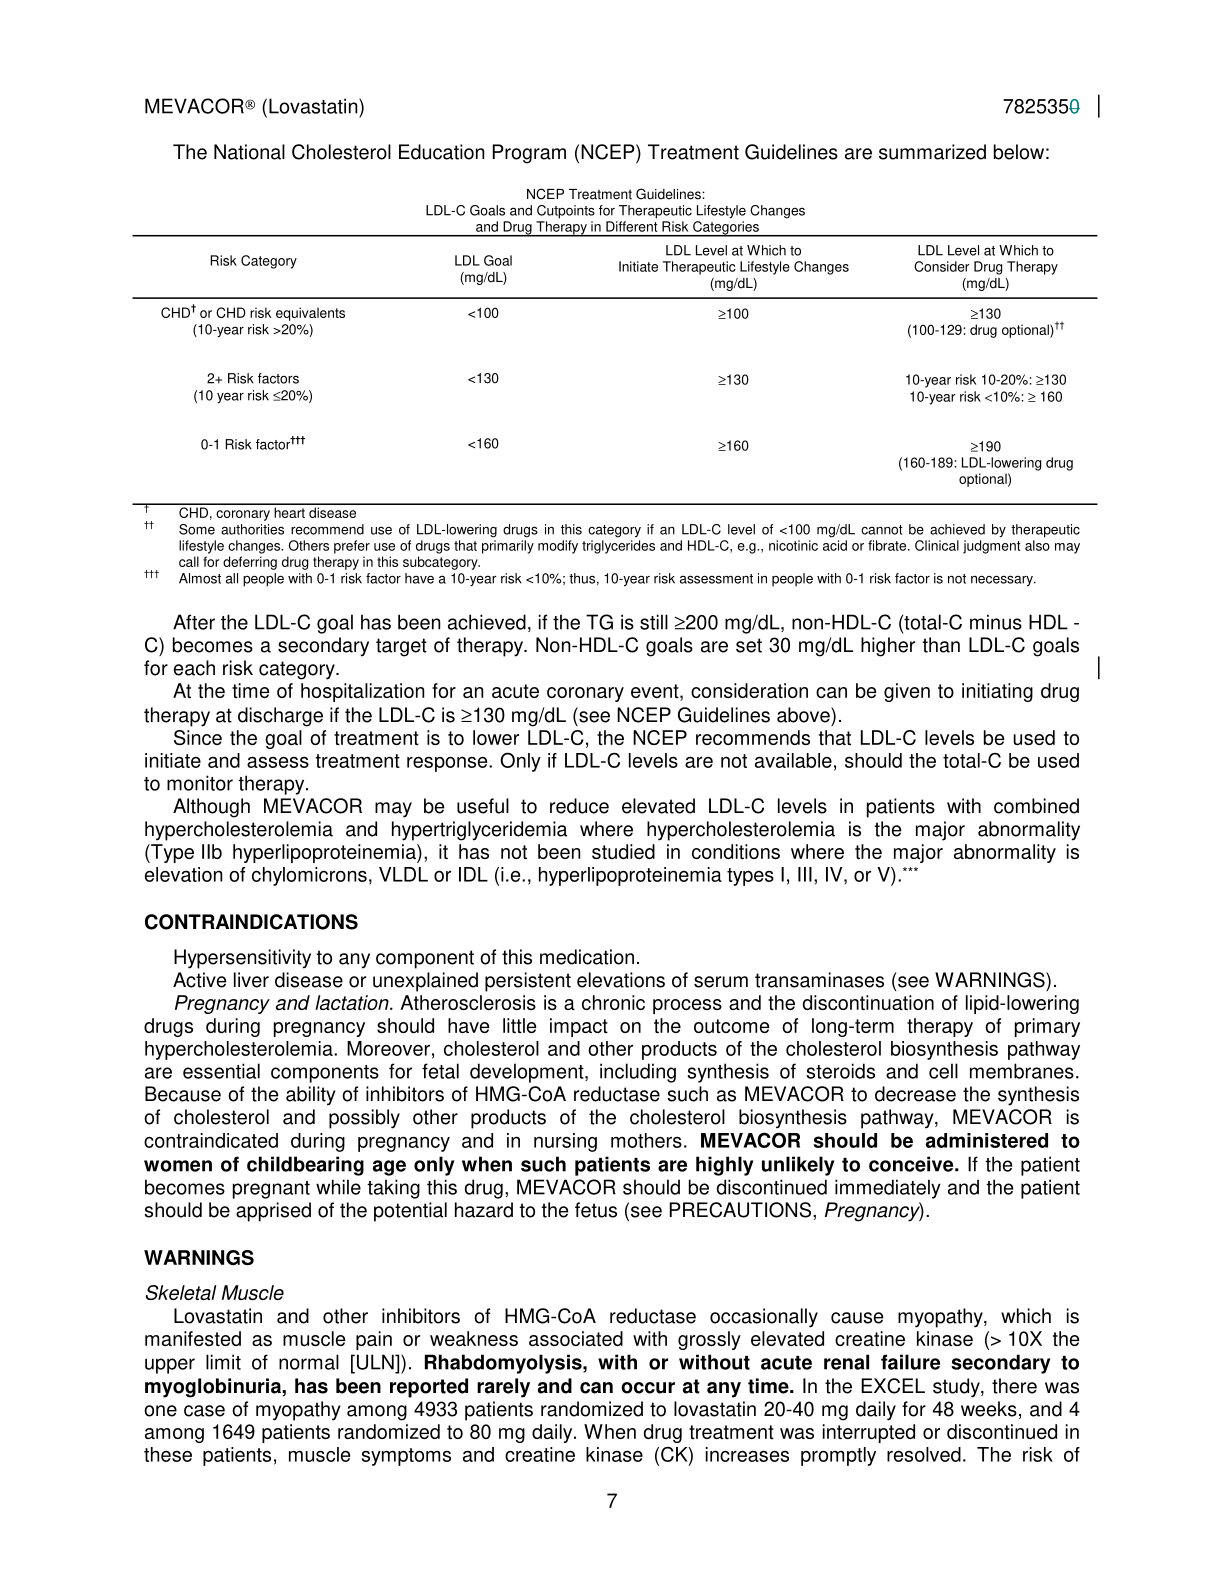partial_lined: (131, 233, 1101, 508)
